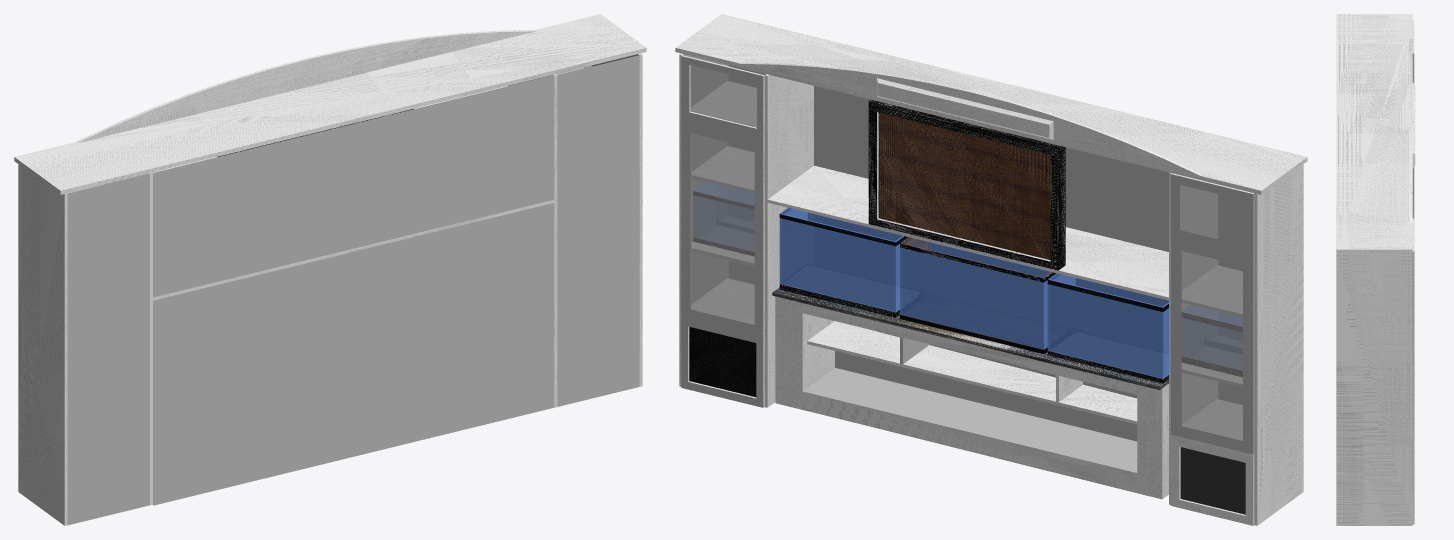
3 views of the same model, side by side, from view 1: azimuth 30°, elevation 25°; view 2: azimuth 150°, elevation 25°; view 3: azimuth 270°, elevation 25° (orthographic). The views are drawn at different scales.
Parts seen in each view (by area): view 1: mesh5_mesh5-geometry; view 2: mesh5_mesh5-geometry, mesh1_mesh1-geometry, mesh6_mesh6-geometry; view 3: mesh5_mesh5-geometry.
Boxes of the visible parts, left/top/right/bottom form: mesh5_mesh5-geometry: left=14, top=14, right=646, bottom=525; mesh5_mesh5-geometry: left=675, top=14, right=1307, bottom=525; mesh1_mesh1-geometry: left=772, top=208, right=1168, bottom=499; mesh6_mesh6-geometry: left=868, top=100, right=1065, bottom=270; mesh5_mesh5-geometry: left=1336, top=14, right=1415, bottom=525.
Bounding box in the file's own units: 0.8372 × 0.5004 × 0.1556.
